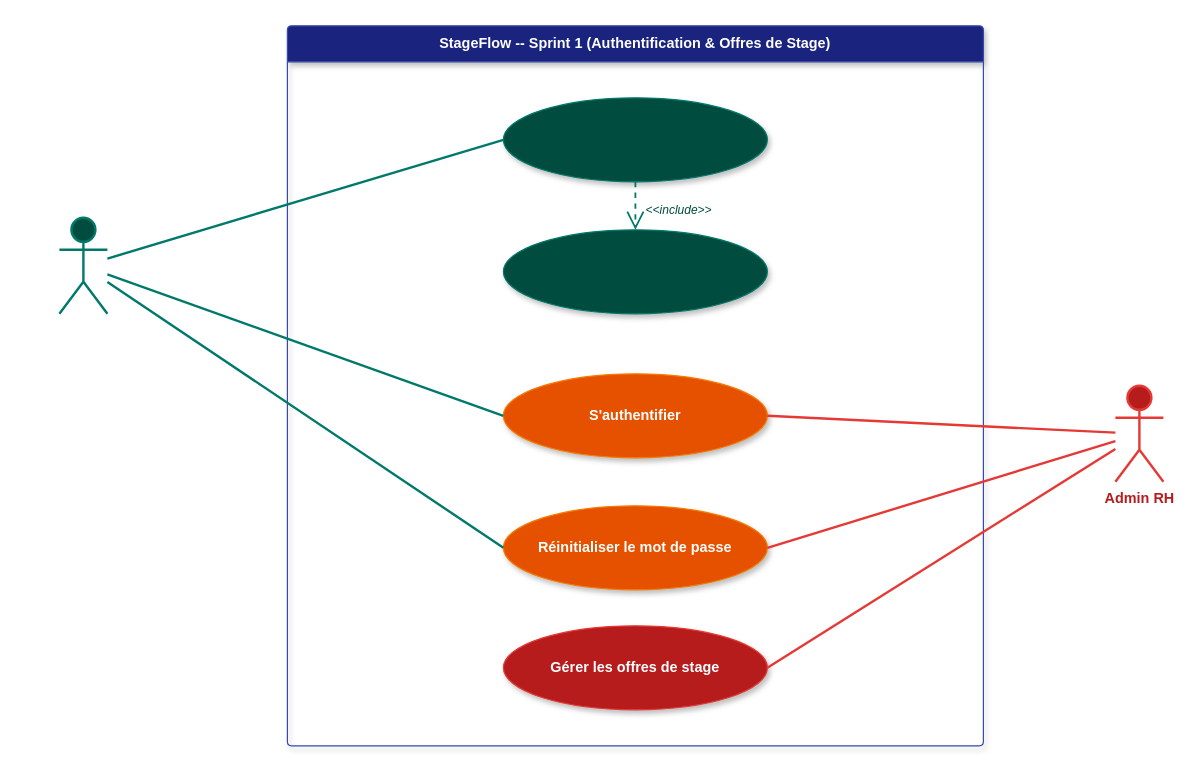
This 1195x775 diagram has some shape labels left out. Each missing label, with the centre of its shape:
S'inscrire: the point at 636,141
Visiteur / Candidat: the point at 83,265
Vérifier le code OTP: the point at 636,273
